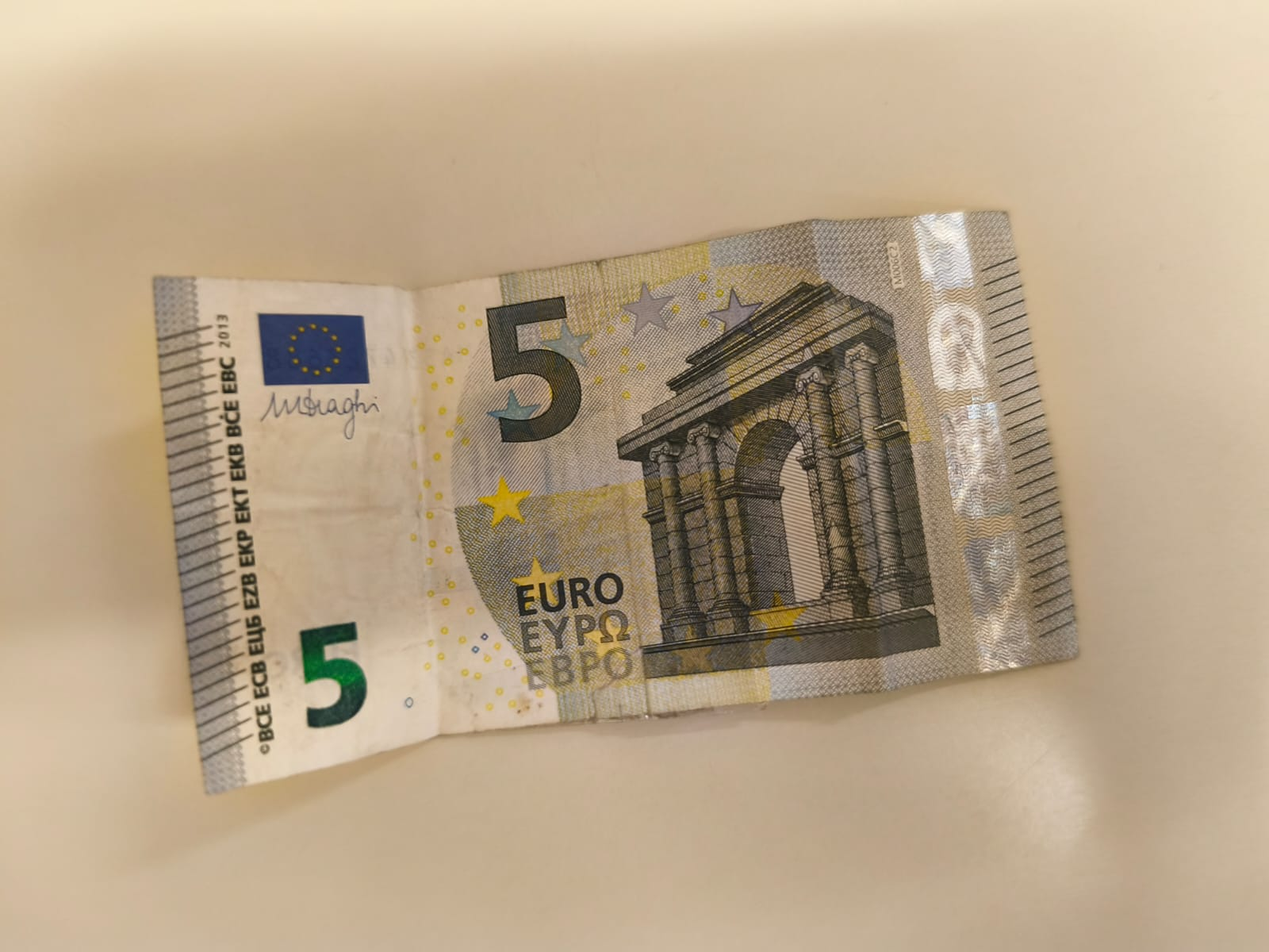Nota de 5€: (128, 270, 1042, 816)
